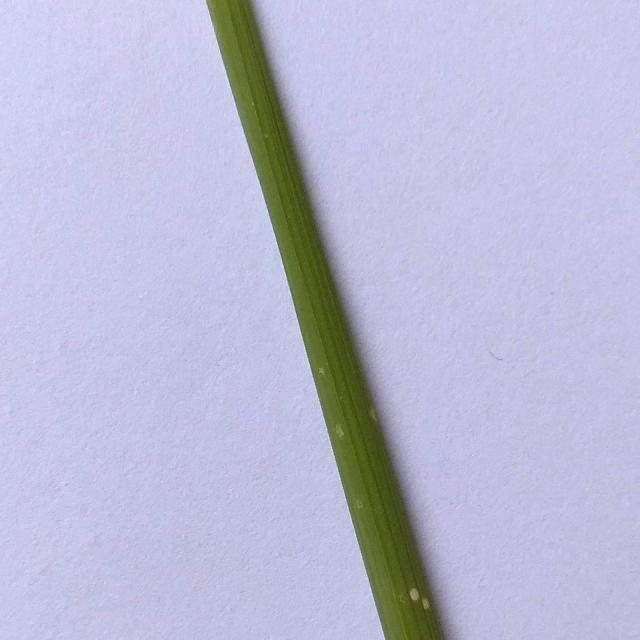Leaf blast: (184, 0, 460, 638)
